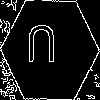U: (25, 25, 57, 72)
